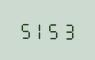five: (46, 19, 59, 40), (18, 19, 31, 39)
one: (32, 19, 45, 39)
three: (60, 20, 73, 40)
